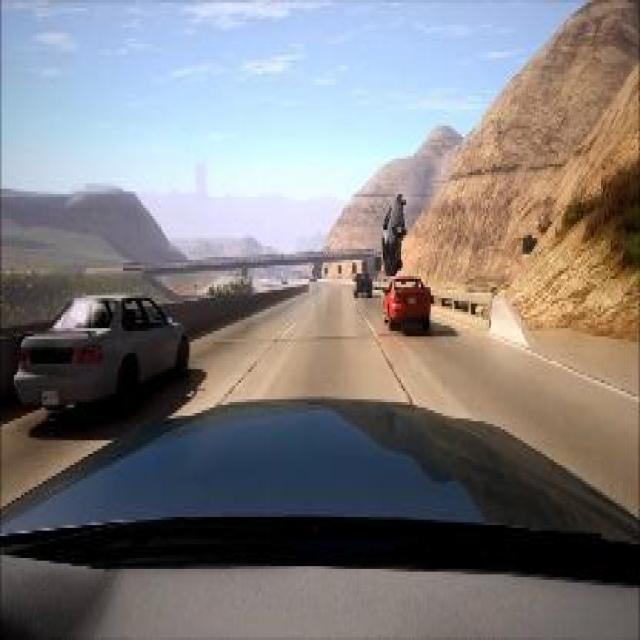accident: (378, 183, 409, 276)
